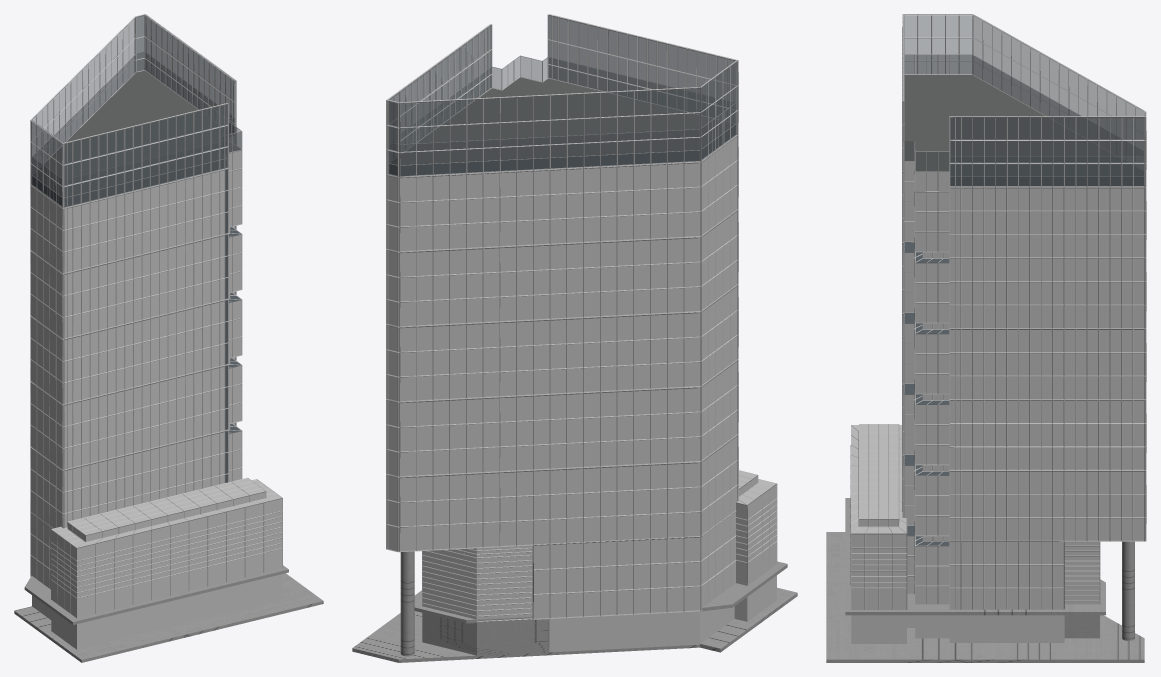
The model's file is Building _01_V1.fbx.
3 views of the same model, side by side, from view 1: azimuth 30°, elevation 25°; view 2: azimuth 150°, elevation 25°; view 3: azimuth 270°, elevation 25° (orthographic). The views are drawn at different scales.
Visible parts, largest first — view 1: Cube.001, Cube.002, Cube.007, Cube.003, Cube.010, Cube.008, Cube, Cube.009, Cube.005; view 2: Cube.001, Cube.002, Cube.003, Cube.005, Cube.006, Cube.011, Cube.008, Cube.012, Cube.007, Cube.009, Cylinder, Cube.010; view 3: Cube.001, Cube.002, Cube.003, Cube, Cube.007, Cube.008, Cube.005, Cube.011, Cube.009, Cube.004, Cube.006, Cube.010 (+2 smaller).
Part boxes in pixels (x1,y1,x2,y2): Cube.001: (30,168,236,528); Cube.002: (30,14,236,208); Cube.007: (51,477,282,618); Cube.003: (32,52,242,206); Cube.010: (51,574,282,649); Cube.008: (14,573,323,662); Cube: (229,168,242,481); Cube.009: (24,565,288,624); Cube.005: (30,512,52,589); Cube.001: (386,135,738,552); Cube.002: (386,14,738,177); Cube.003: (388,55,736,176); Cube.005: (532,511,735,619); Cube.006: (422,545,532,621); Cube.011: (549,606,734,652); Cube.008: (352,587,797,662); Cube.012: (422,613,549,656); Cube.007: (736,470,777,585); Cube.009: (414,561,787,623); Cylinder: (400,551,414,656); Cube.010: (734,575,776,621); Cube.001: (902,158,1146,541); Cube.002: (902,14,1146,187); Cube.003: (903,54,1143,191); Cube: (903,181,949,536); Cube.007: (850,424,907,609); Cube.008: (826,532,1144,662); Cube.005: (949,541,1064,609); Cube.011: (907,615,1064,642); Cube.009: (845,498,1105,615); Cube.004: (907,526,949,604); Cube.006: (1064,541,1100,608); Cube.010: (851,615,906,643).
Bounding box in the file's own units: 2736 × 5288 × 2895.
